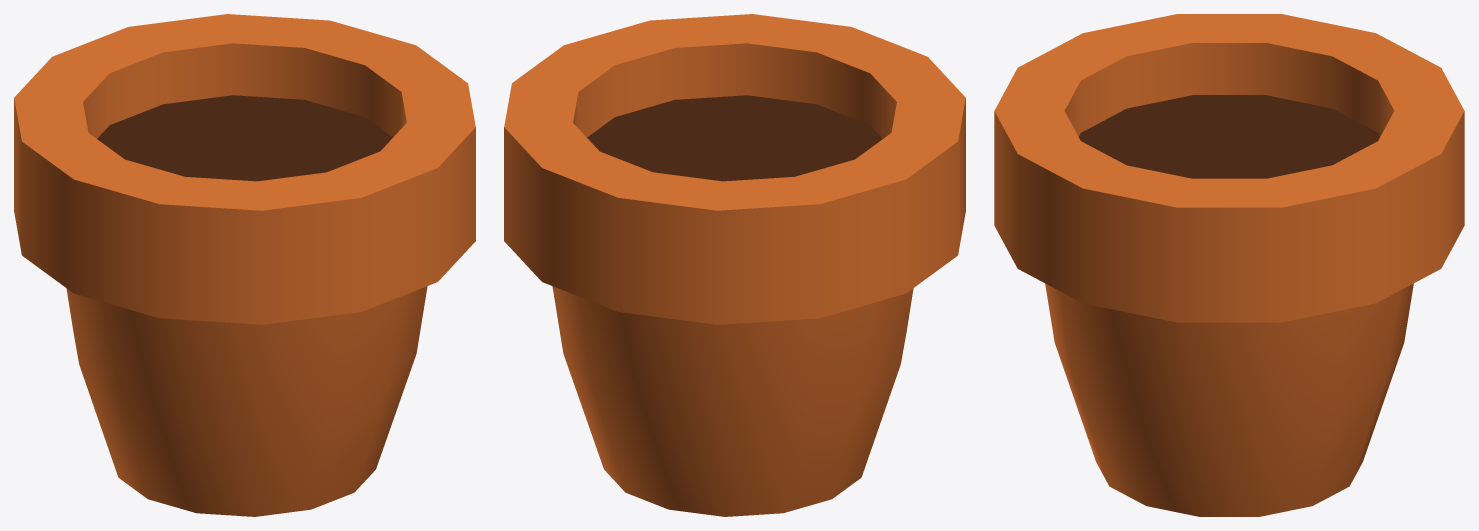
Rendered from FlowerPot.fbx.
3 views of the same model, side by side, from view 1: azimuth 30°, elevation 25°; view 2: azimuth 150°, elevation 25°; view 3: azimuth 270°, elevation 25° (orthographic).
Visible parts, largest first — view 1: Cylinder.007; view 2: Cylinder.007; view 3: Cylinder.007.
Boxes of the visible parts, x1,y1,x2,y2 form: Cylinder.007: (14, 14, 475, 516); Cylinder.007: (504, 14, 965, 516); Cylinder.007: (994, 14, 1464, 516).
Bounding box in the file's own units: 24.33 × 20.57 × 24.96.
